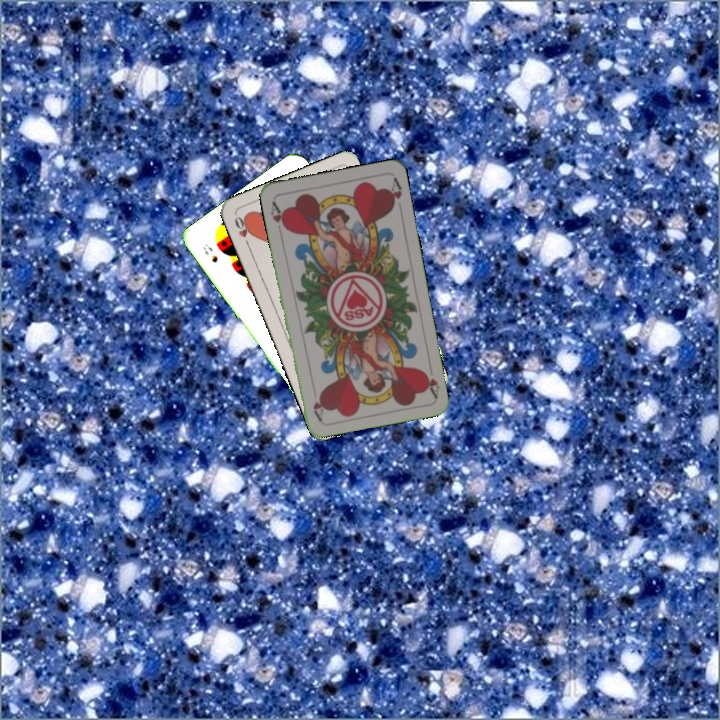HA: (419, 359, 442, 400), (266, 197, 290, 233)
HO: (231, 212, 253, 250)
S8: (199, 239, 220, 265)
